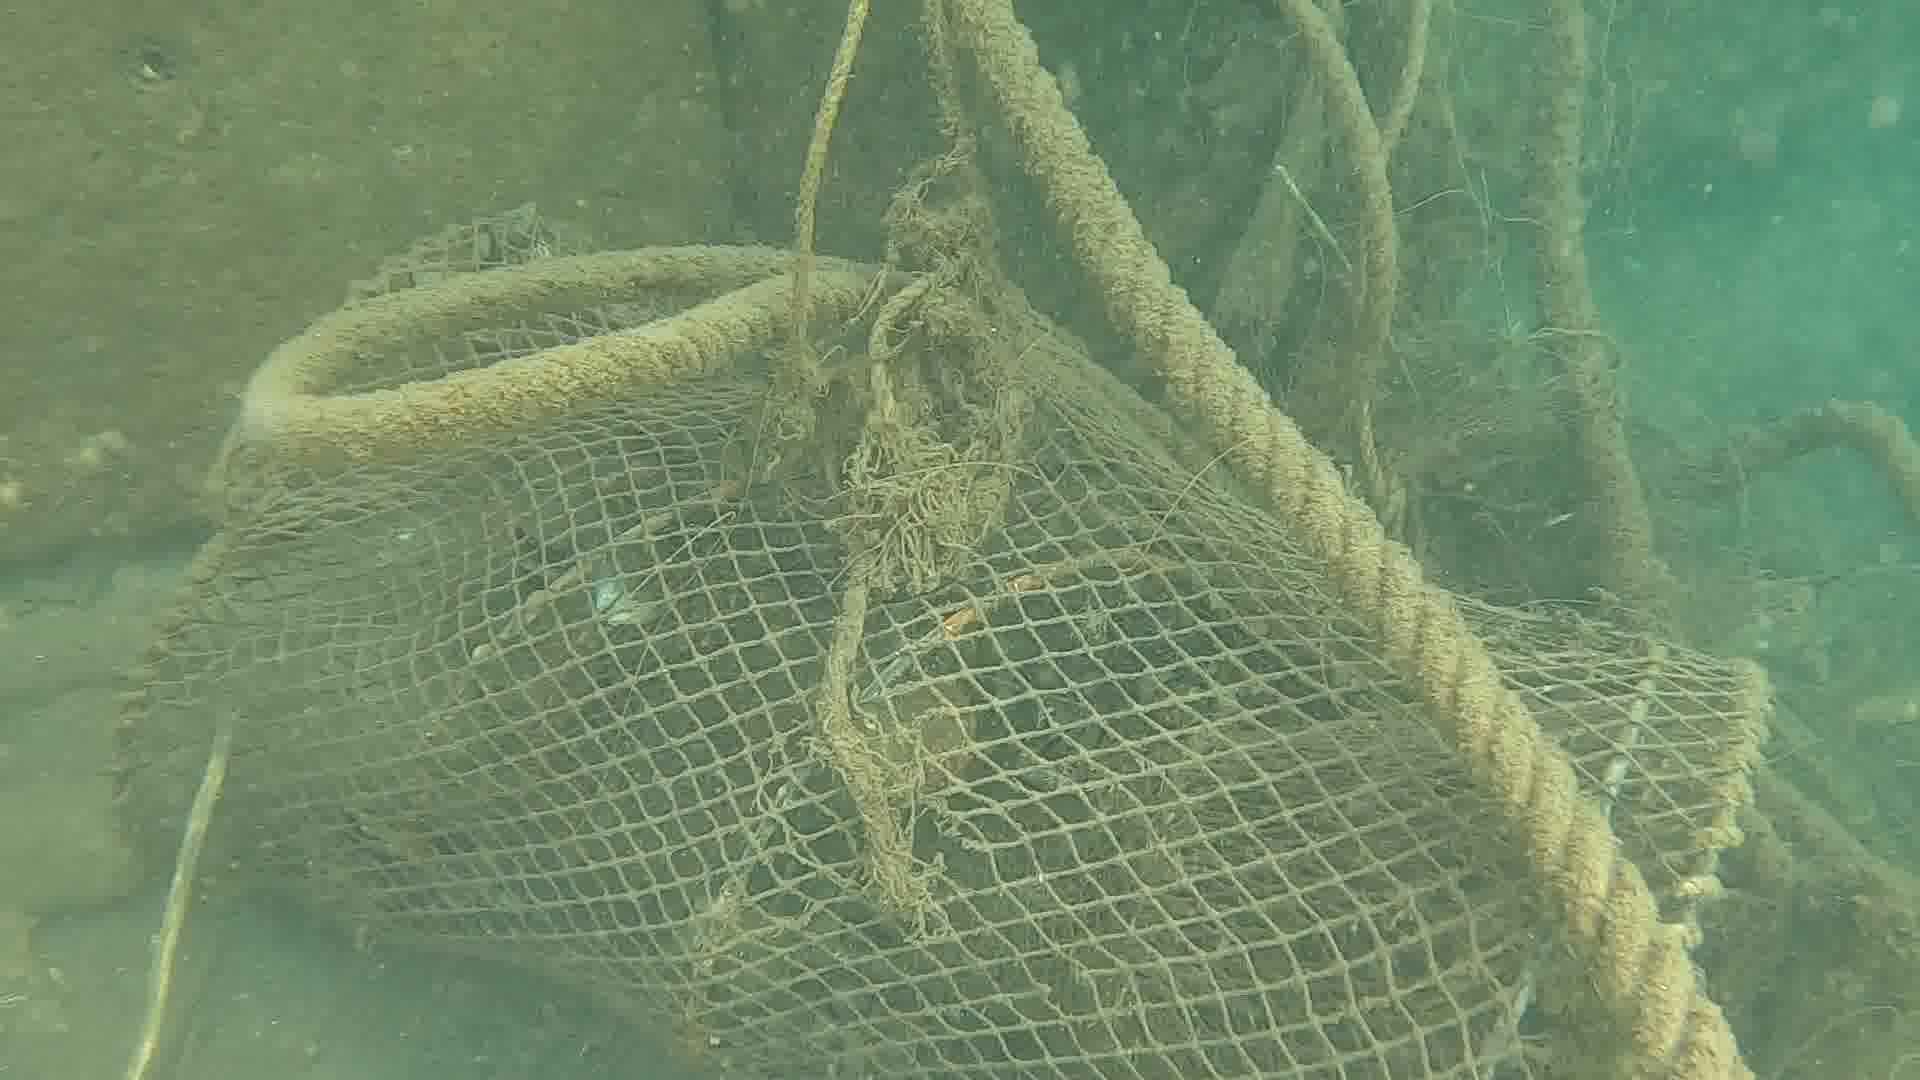bundle of ropes: (953, 0, 1920, 1080)
rope: (239, 241, 895, 448), (785, 0, 868, 344)
spring fish trap: (105, 218, 1771, 1080)
